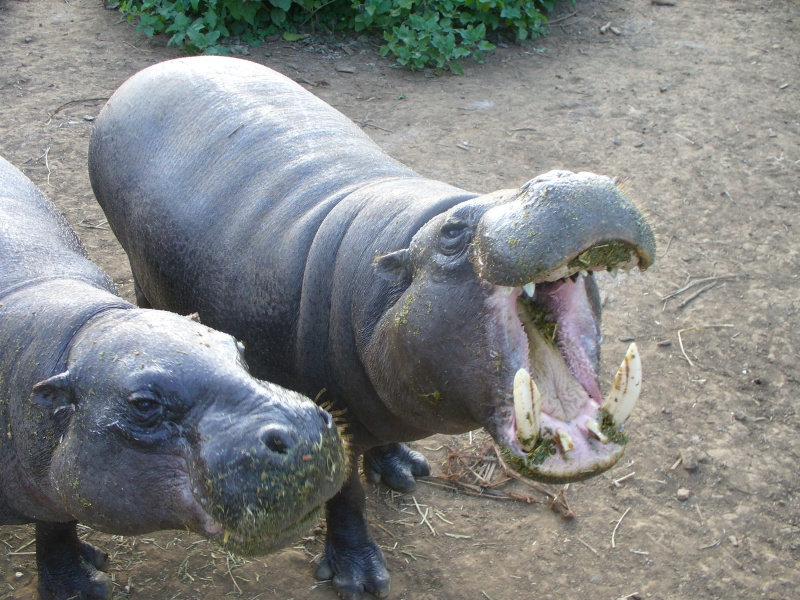hipopotamo: (97, 58, 659, 600), (0, 150, 333, 584)
